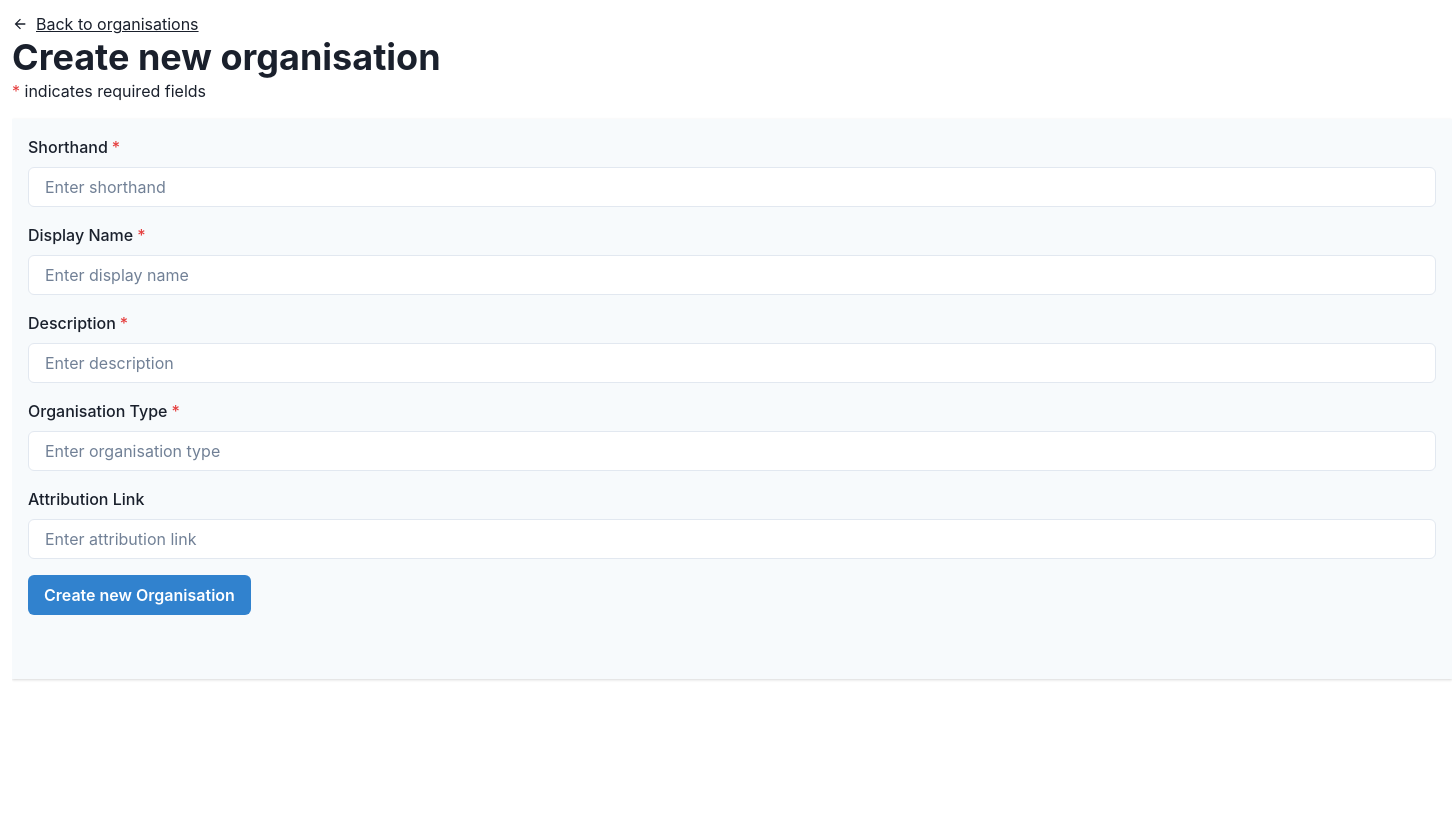
it: OrganisationCreate › successfully creates a new organisation when all required fields are provided
Expected: the heading "Create new organisation" is shown, [12,35,441,79]
Type "Test shorthand" into the field labelled "Shorthand".
click(732, 187); type("Test shorthand")  # box [28,167,1436,207]
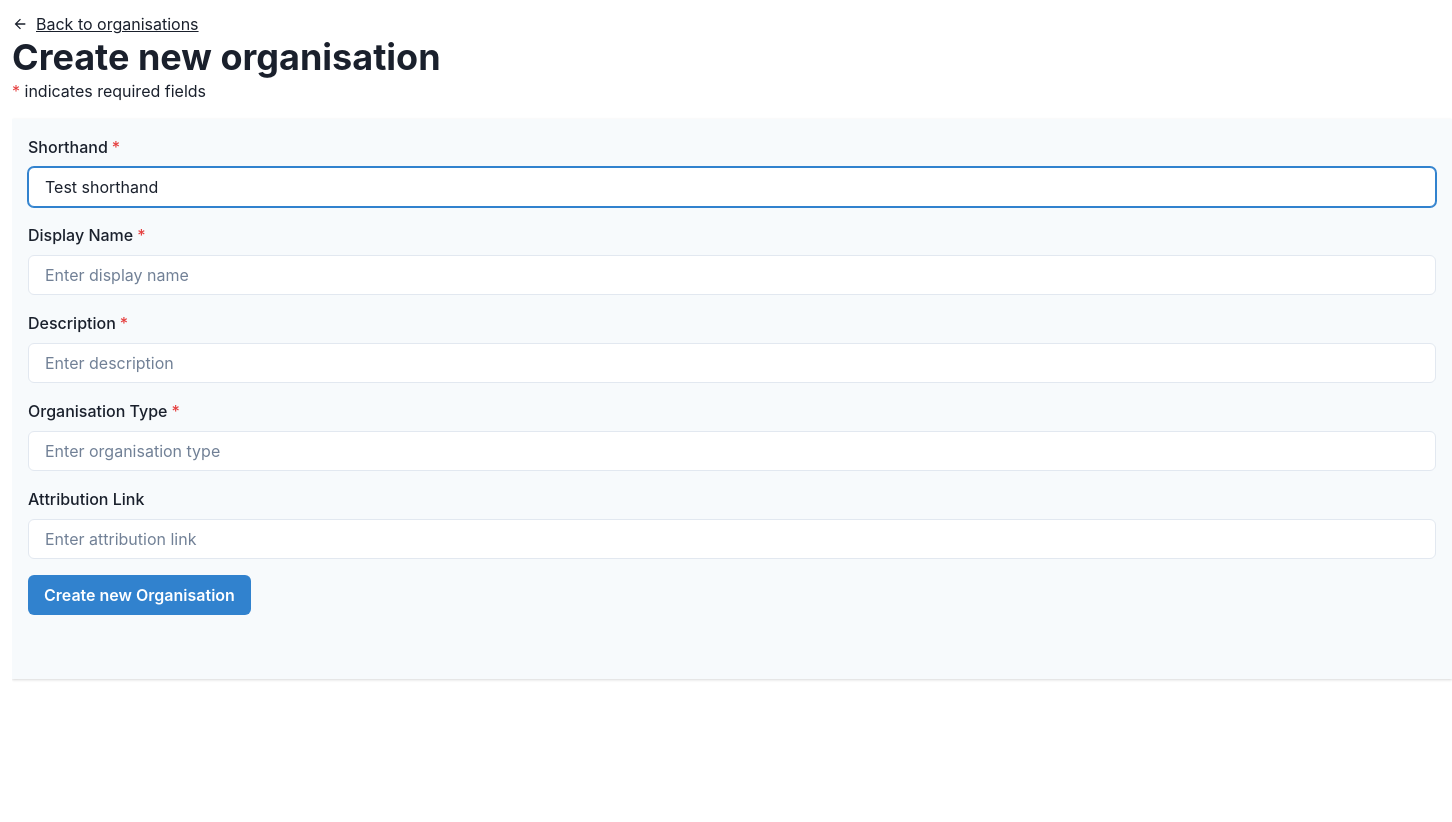
Type "Test display name" into the field labelled "Display Name".
click(732, 275); type("Test display name")  # box [28,255,1436,295]
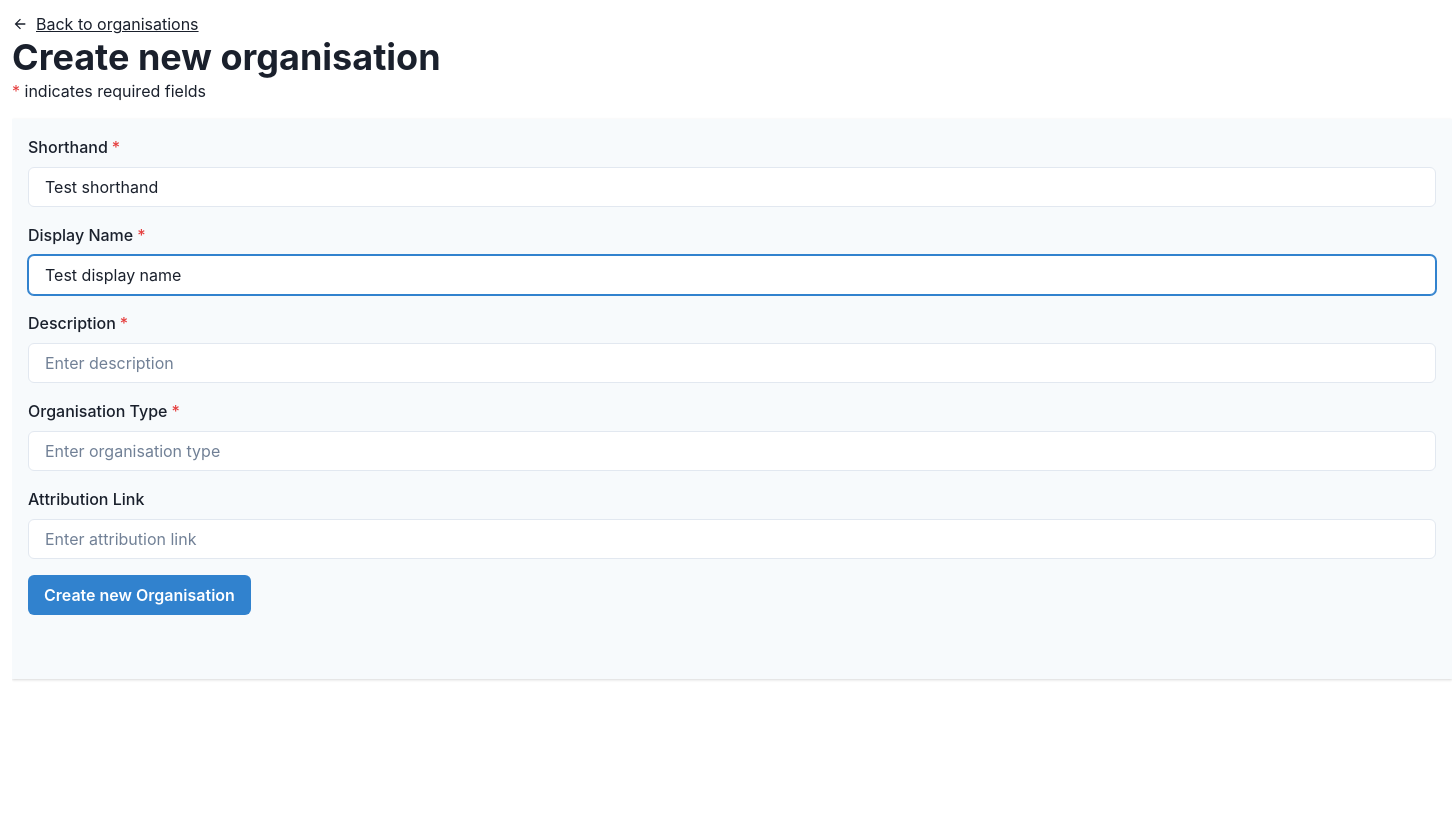
Type "Test description" into the field labelled "Description".
click(732, 363); type("Test description")  # box [28,343,1436,383]
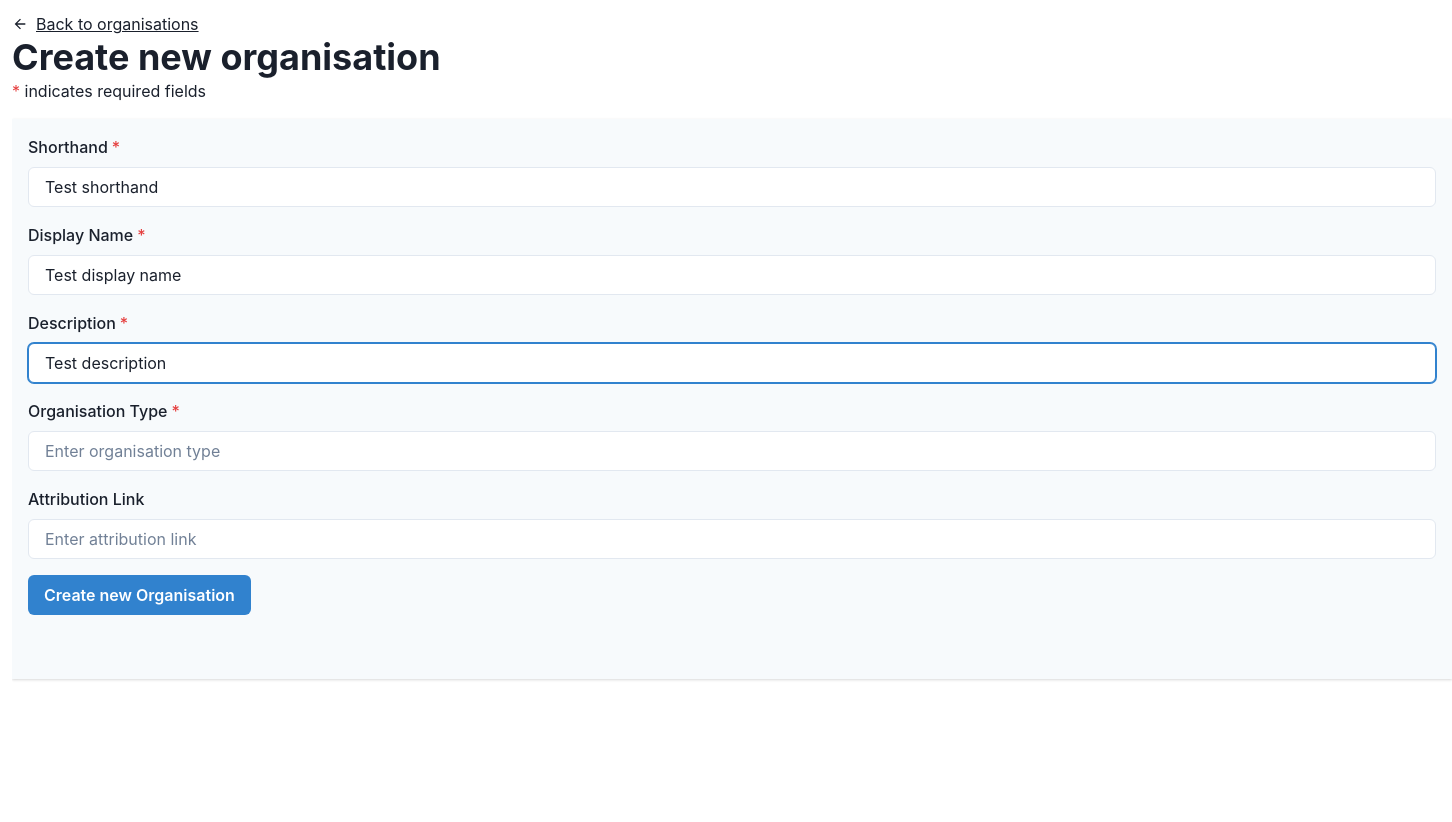
Type "Test Organisation Type" into the field labelled "Organisation Type".
click(732, 451); type("Test Organisation Type")  # box [28,431,1436,471]
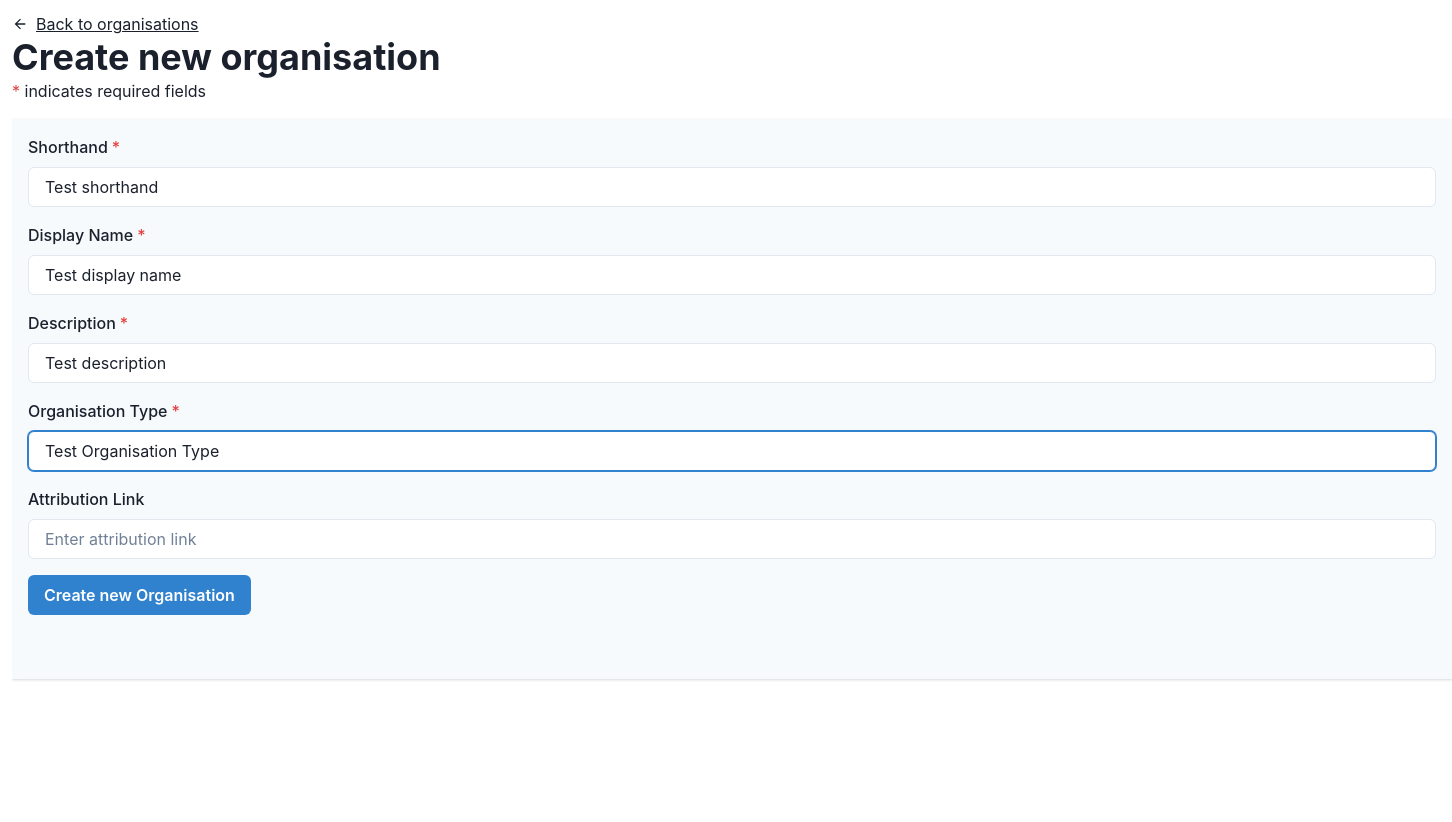
Type "test_attribution_link.com" into the field labelled "Attribution Link".
click(732, 539); type("test_attribution_link.com")  # box [28,519,1436,559]
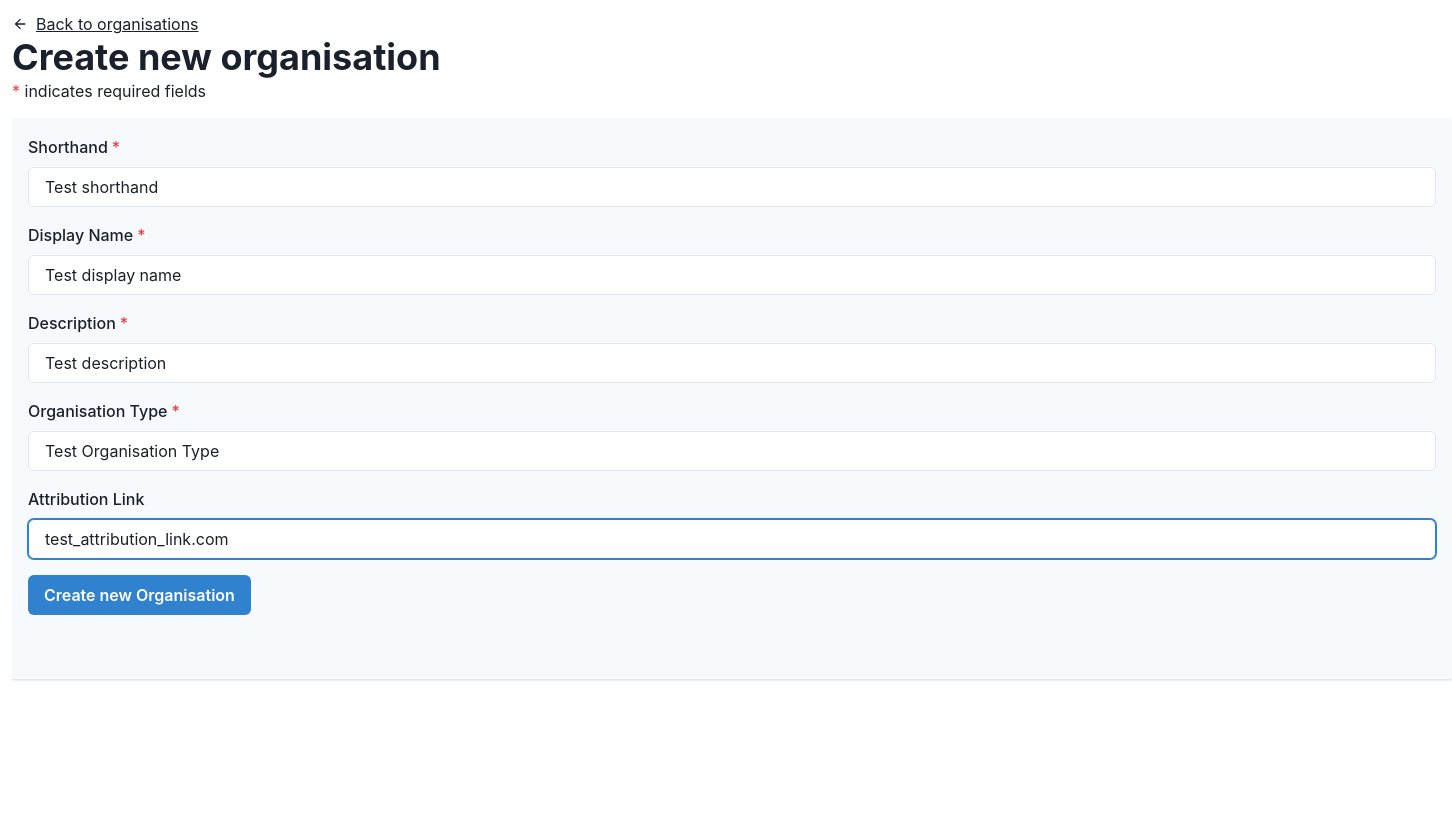
Click the button "Create new Organisation".
click(139, 595)  # box [28,575,251,615]
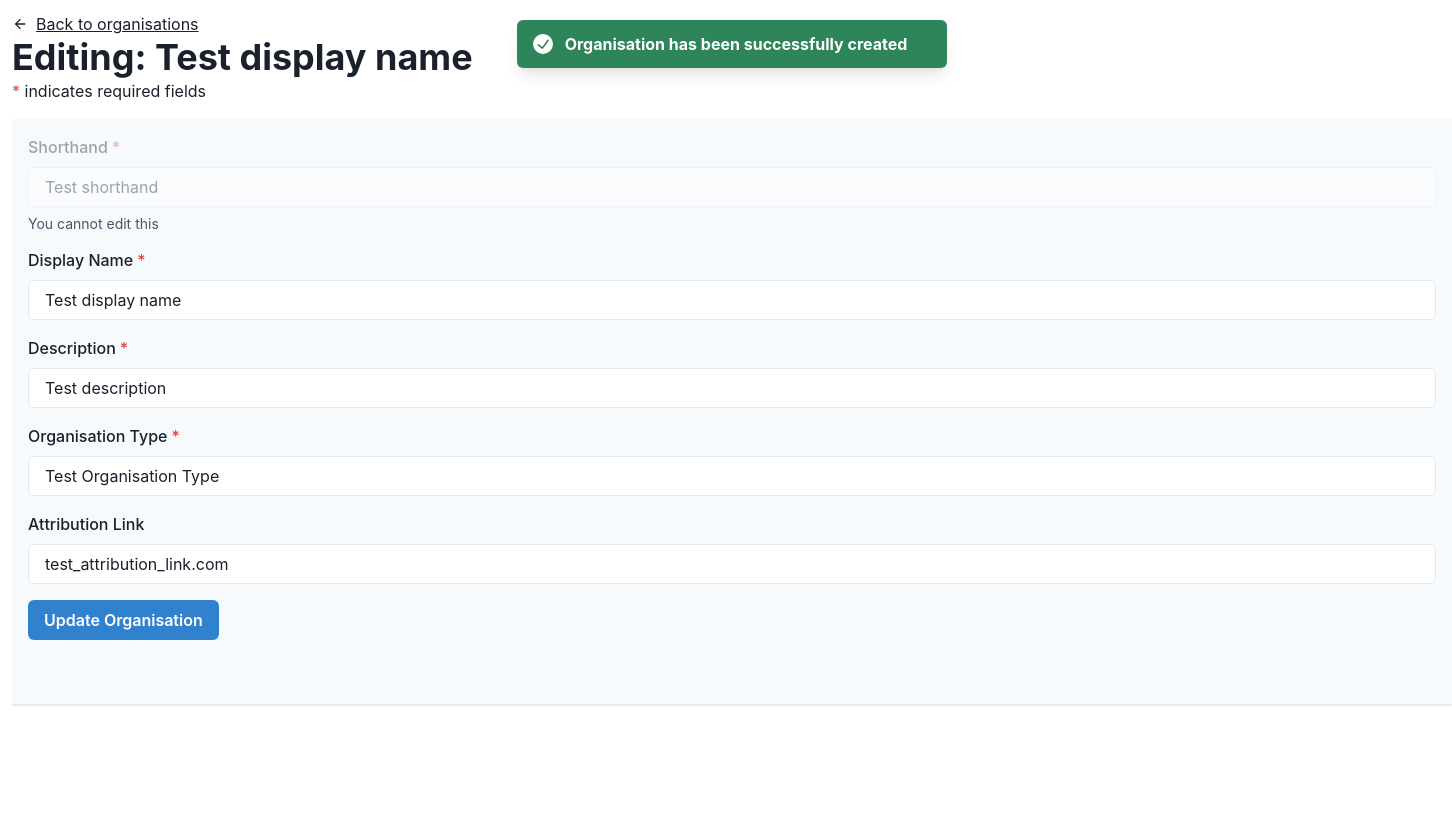
Expected: the text "Organisation has been successfully created" is shown, [565,32,907,56]
Expected: the heading "Editing: Test display name" is shown, [12,35,473,79]
